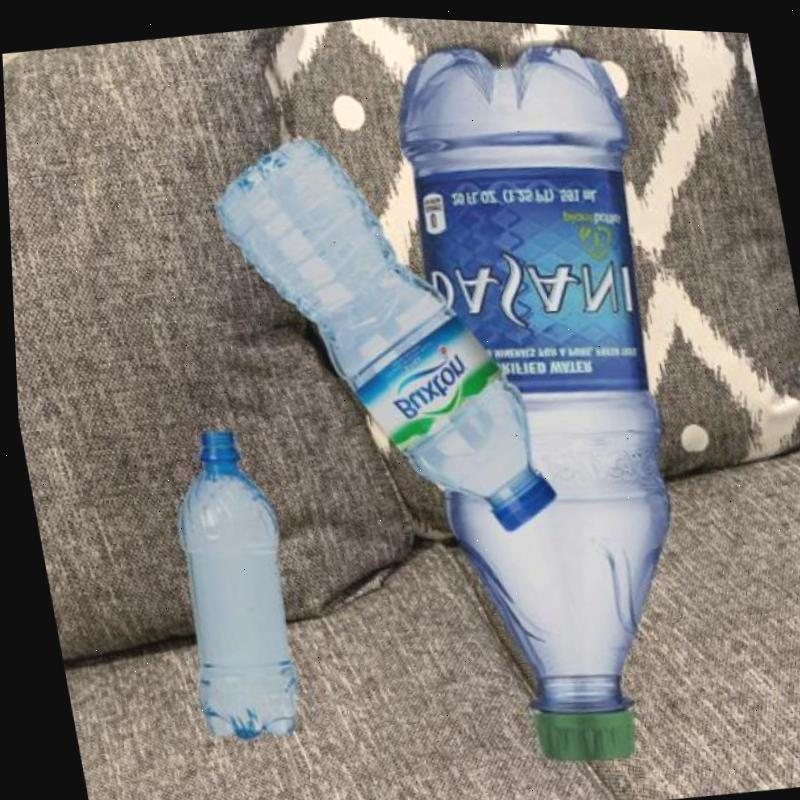botella: (355, 19, 729, 774), (197, 103, 558, 562), (141, 419, 309, 747)
